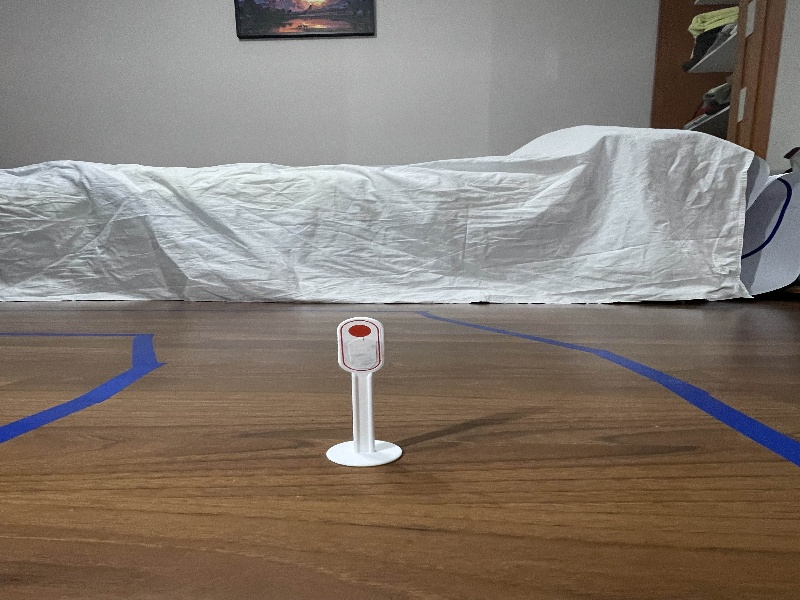semafor_rosu: (325, 311, 398, 379)
